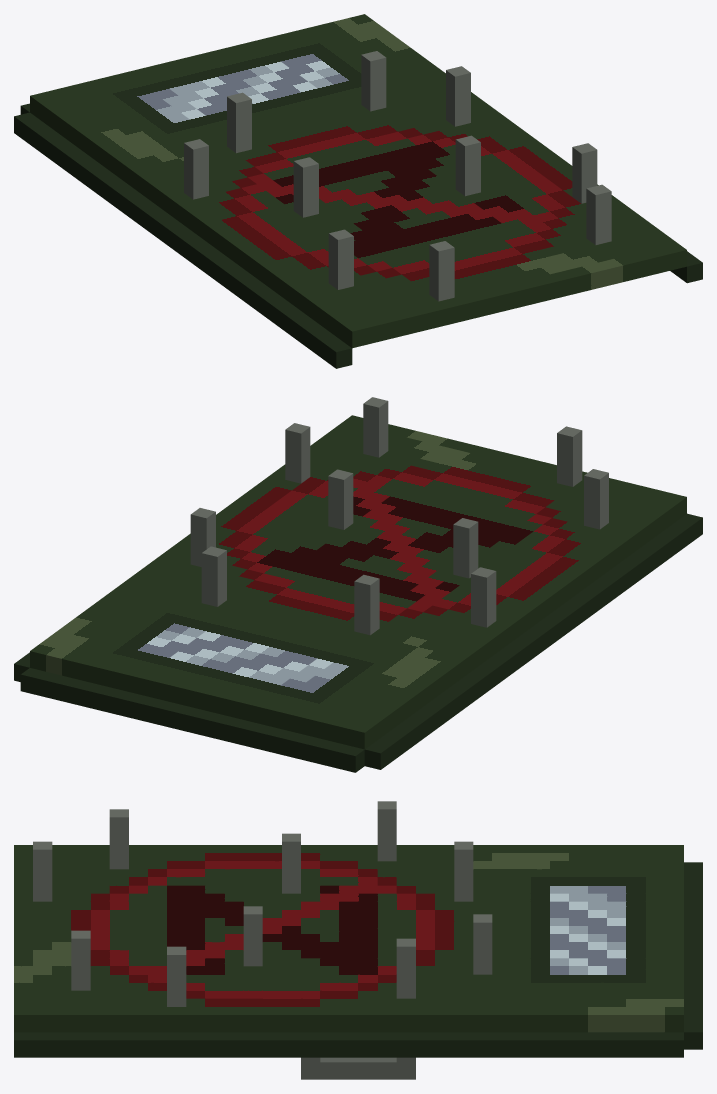
3 views of the same model, one above another, from view 1: azimuth 30°, elevation 25°; view 2: azimuth 150°, elevation 25°; view 3: azimuth 270°, elevation 25° (orthographic). The views are drawn at different scales.
Parts seen in each view (by area): view 1: Equip_Left_Hand-Local; view 2: Equip_Left_Hand-Local; view 3: Equip_Left_Hand-Local.
Boxes of the visible parts, <box> form: Equip_Left_Hand-Local: <box>14,14,702,368</box>; Equip_Left_Hand-Local: <box>14,397,702,772</box>; Equip_Left_Hand-Local: <box>14,801,702,1079</box>.
Bounding box in the file's own units: 23 × 10 × 36.
1 material, 1 textured.
